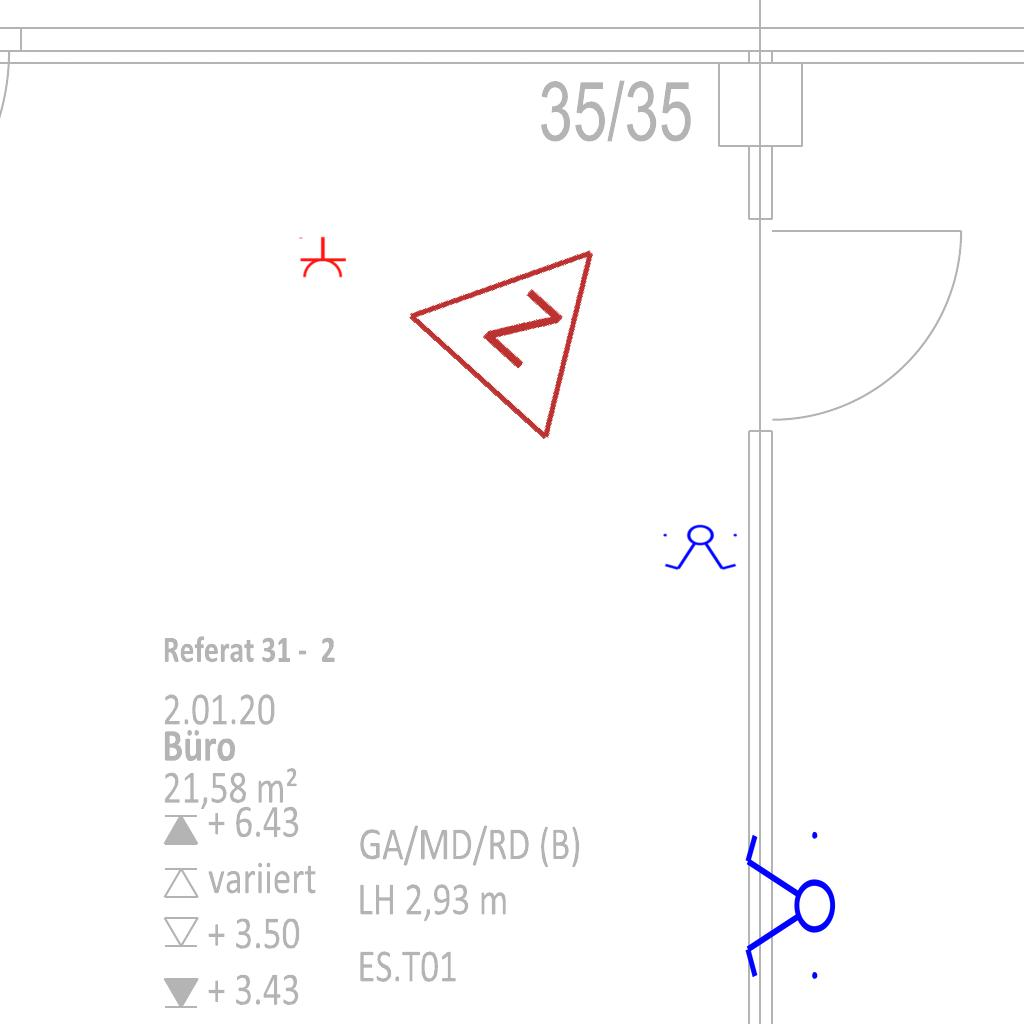Schukosteckdose_einfach: (297, 236, 347, 279)
Serienschalter: (741, 823, 837, 991), (659, 524, 743, 572)
Zimmersignalleuchte: (392, 174, 672, 454)
